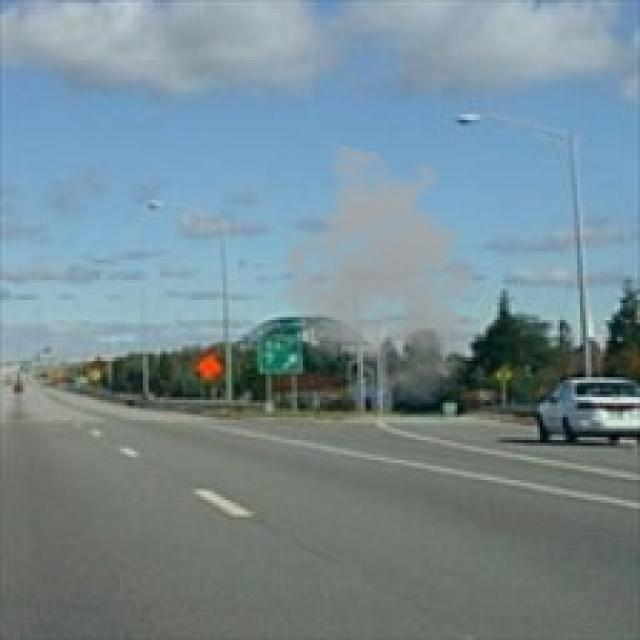Smoke: (271, 142, 500, 408)
